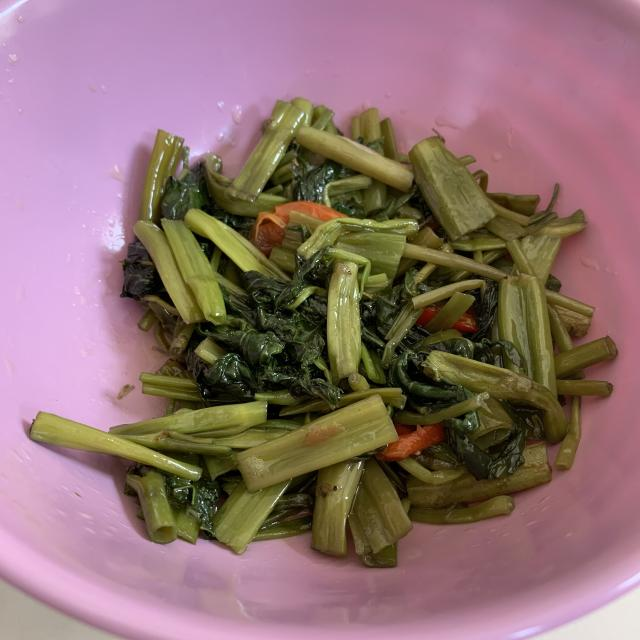Wet Waste: (30, 94, 620, 569)
